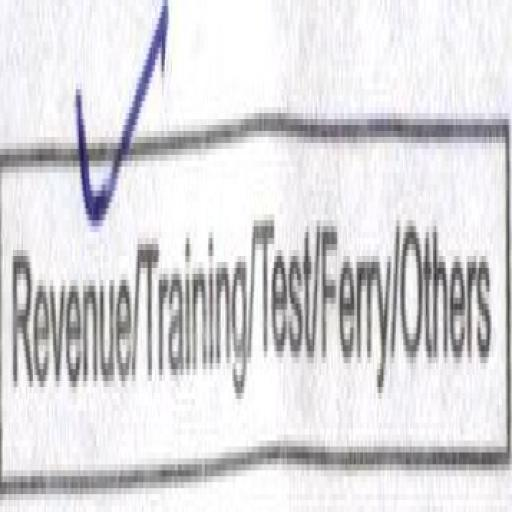check: (2, 0, 142, 498)
